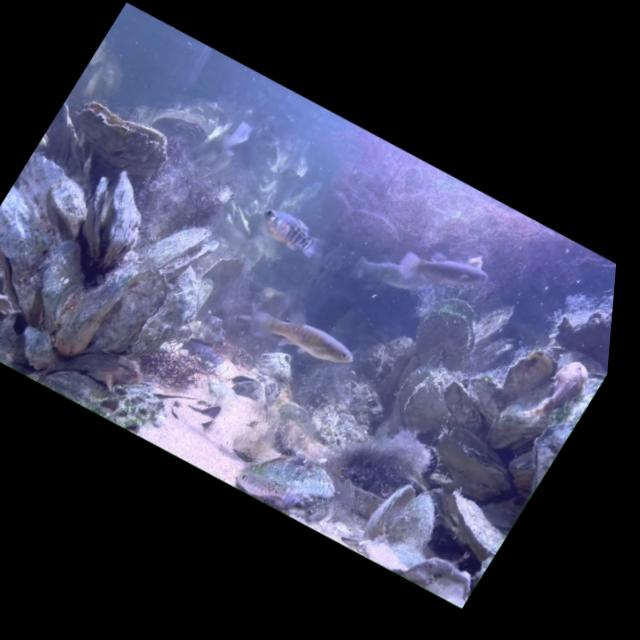Oyster-Closed: (53, 266, 136, 356), (89, 272, 171, 353), (0, 186, 46, 329), (136, 138, 198, 241), (237, 457, 335, 521), (130, 265, 197, 357), (438, 427, 511, 502), (18, 154, 66, 253), (552, 304, 613, 371), (448, 490, 504, 562), (45, 241, 85, 335), (397, 558, 470, 608), (339, 209, 400, 256), (312, 404, 368, 450)
Oyster-Indeterminate: (47, 175, 85, 241)
Oyster-Open: (78, 102, 167, 179), (357, 485, 434, 572), (82, 172, 141, 269), (139, 227, 218, 281), (415, 298, 474, 370), (397, 366, 455, 433), (470, 306, 514, 371), (151, 109, 212, 147), (204, 258, 243, 285), (0, 294, 14, 324)
